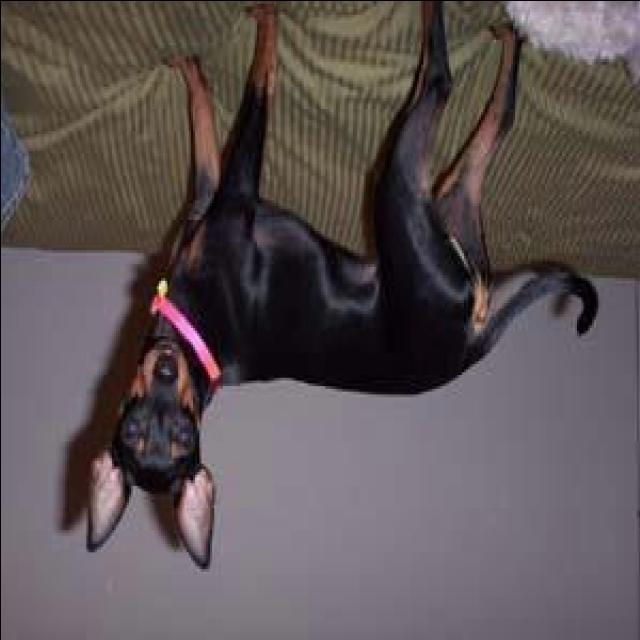toy_terrier: (66, 3, 595, 573)
